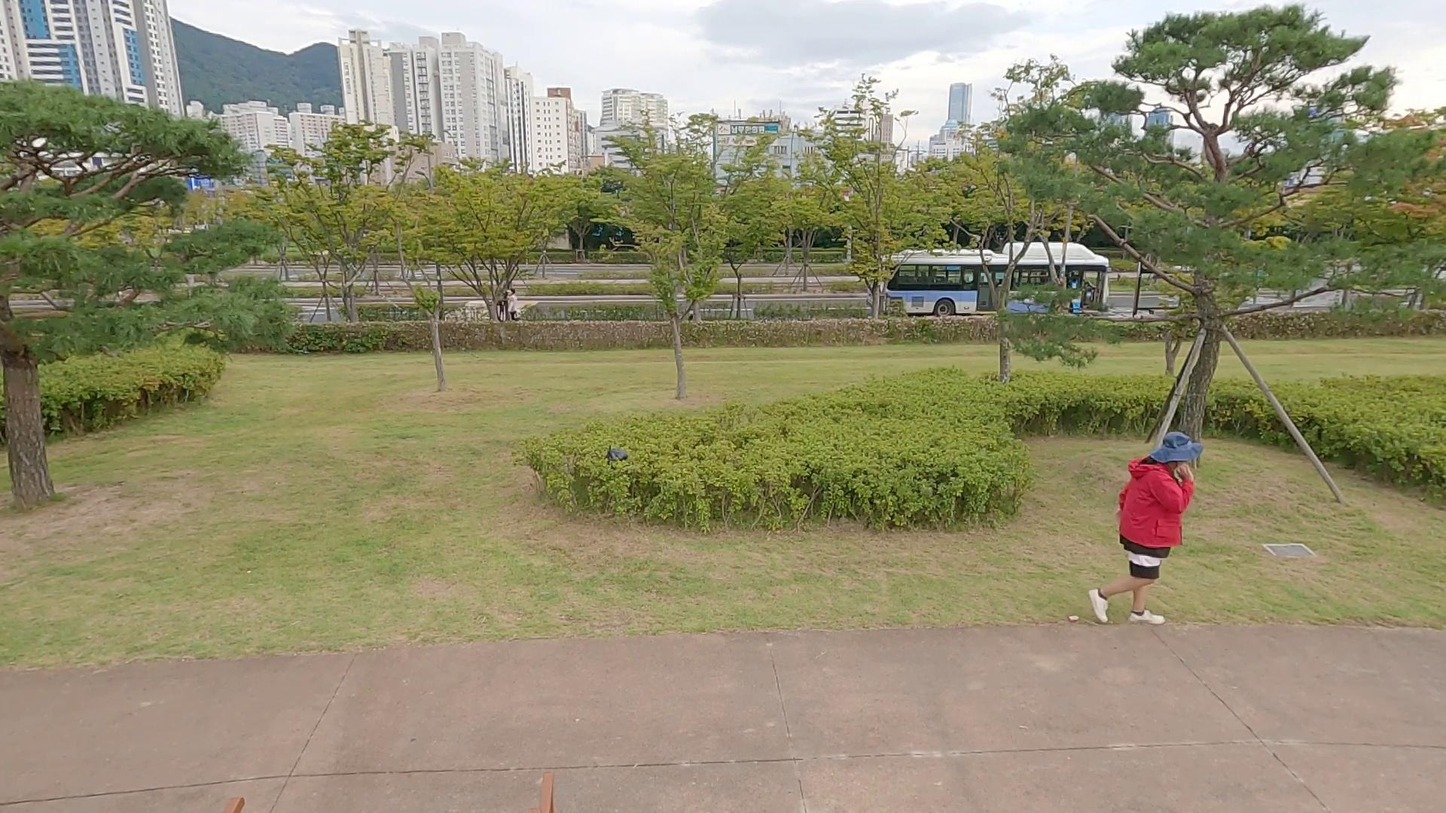person: (1087, 425, 1205, 629)
trash: (604, 437, 631, 466)
